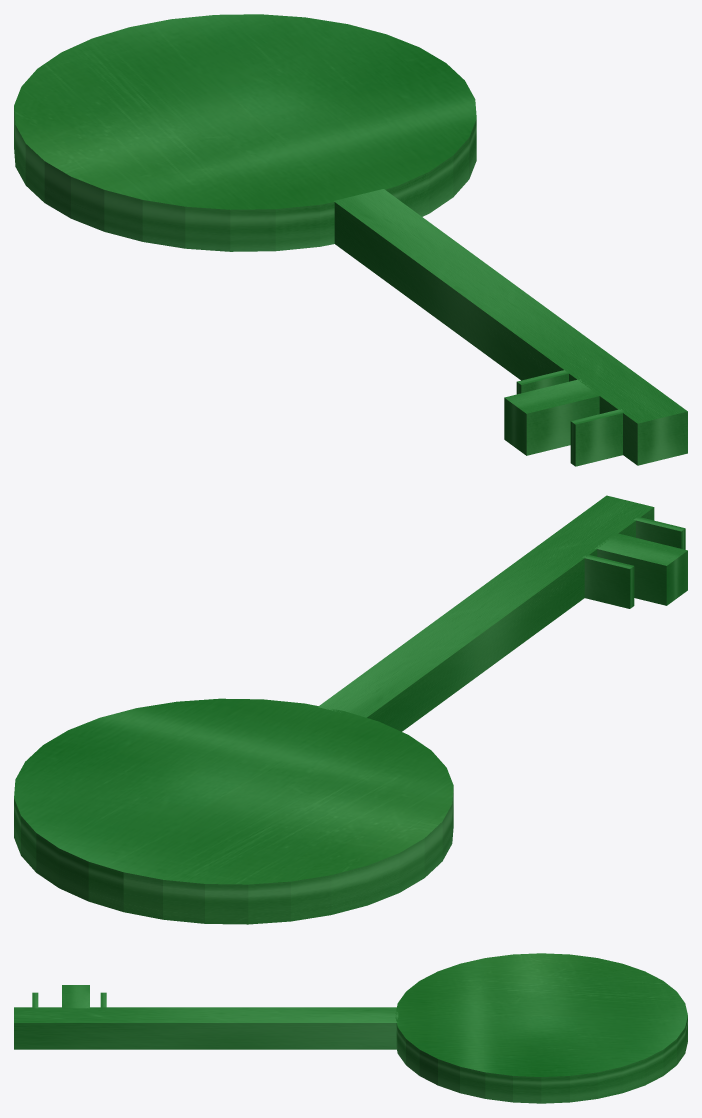
Rendered from green_key.fbx.
3 views of the same model, one above another, from view 1: azimuth 30°, elevation 25°; view 2: azimuth 150°, elevation 25°; view 3: azimuth 270°, elevation 25° (orthographic). The views are drawn at different scales.
Parts seen in each view (by area): view 1: Cube.001; view 2: Cube.001; view 3: Cube.001.
Boxes of the visible parts, box(x1,y1,x2,y2) form: Cube.001: box(14, 14, 687, 466); Cube.001: box(14, 495, 687, 924); Cube.001: box(14, 953, 687, 1103).
Bounding box in the file's own units: 200 × 20 × 460.
